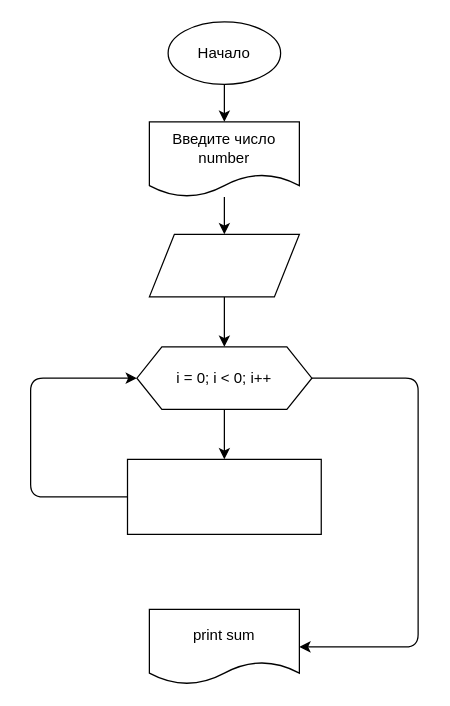
This 450x706 diagram has some shape labels left out. Each missing label, with the box of its shape:
number sum = 0: (148, 233, 299, 297)
sum = sum + number %10; number = number/10;: (126, 458, 321, 534)
